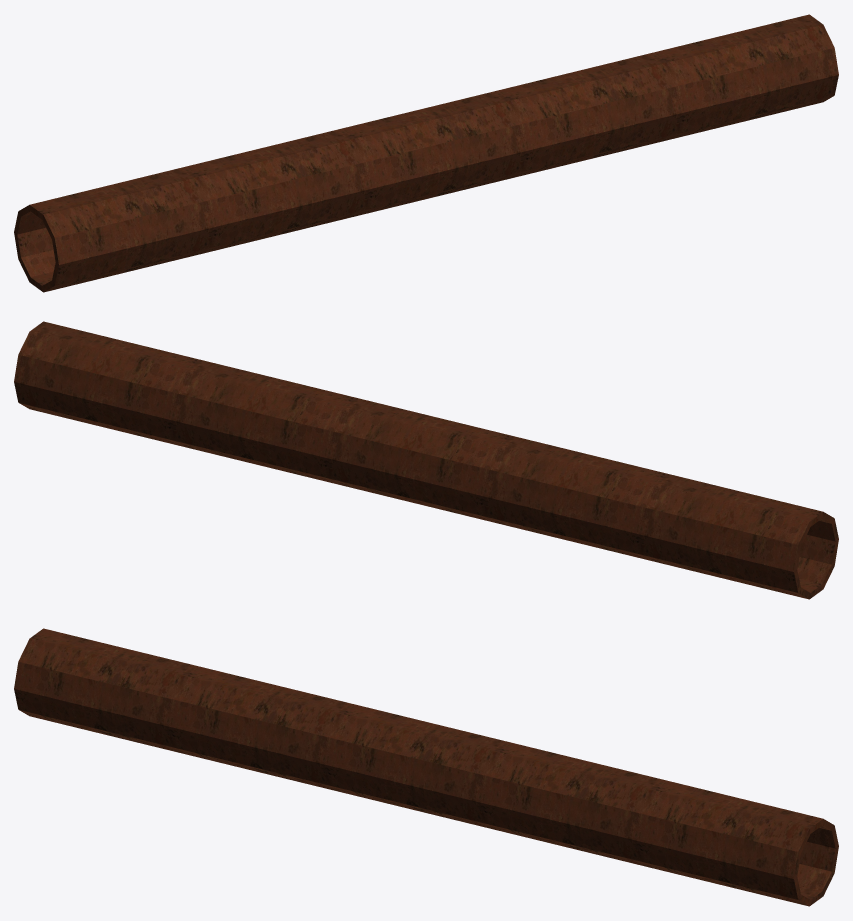
File: pipe_1.glb
3 renders of one model, top to bottom at view 1: azimuth 30°, elevation 25°; view 2: azimuth 150°, elevation 25°; view 3: azimuth 330°, elevation 25°, orthographic.
Visible parts, largest first — view 1: pipe_1; view 2: pipe_1; view 3: pipe_1.
Boxes of the visible parts, bbox=[...] form: pipe_1: bbox=[14, 14, 838, 292]; pipe_1: bbox=[14, 321, 838, 599]; pipe_1: bbox=[14, 628, 838, 906].
Size of the model in its own units: 0.4 by 0.038 by 0.04.
1 material, 1 textured.
